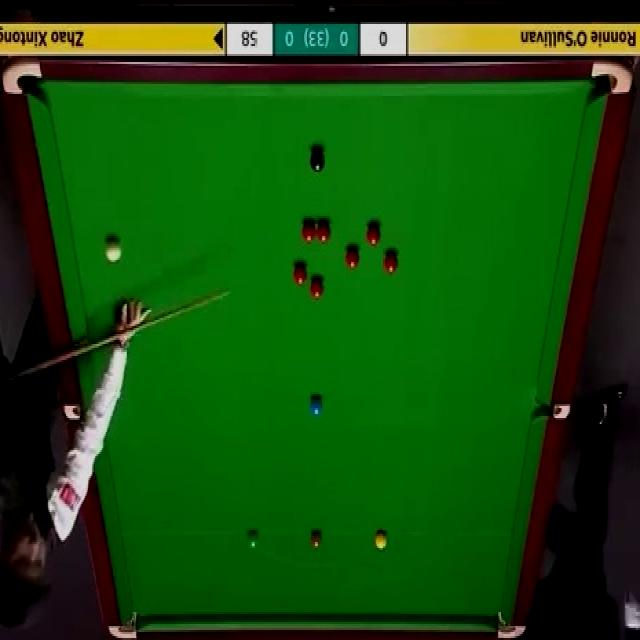black-ball: (309, 148, 325, 172)
blue-ball: (308, 394, 324, 417)
brown-ball: (310, 530, 322, 549)
green-ball: (246, 531, 258, 550)
red-ball: (309, 278, 325, 300), (316, 220, 331, 243), (301, 220, 316, 243), (292, 265, 309, 285), (384, 252, 398, 276), (367, 224, 382, 246), (346, 247, 360, 270)
white-ball: (106, 237, 122, 264)
yellow-ball: (375, 528, 387, 551)
